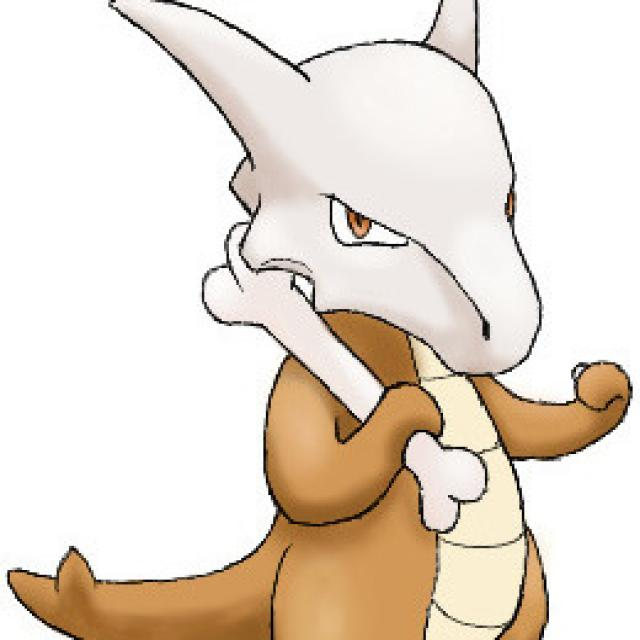Marowak: (201, 37, 546, 640)
